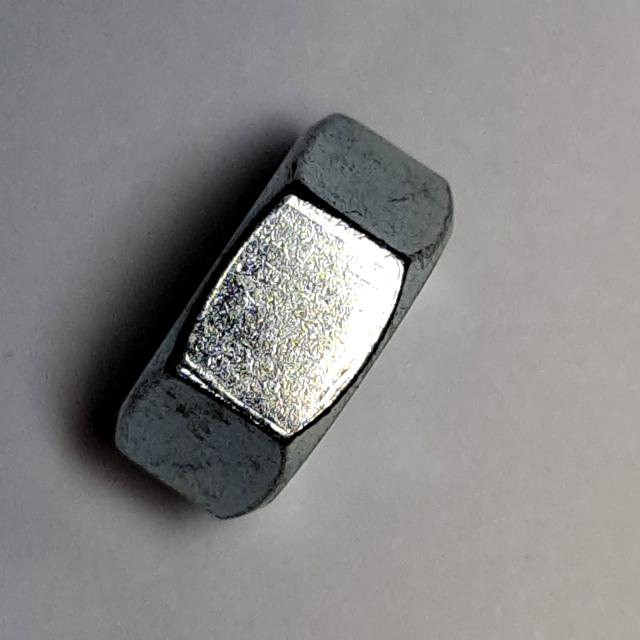Side_Excellent: (94, 98, 494, 542)
